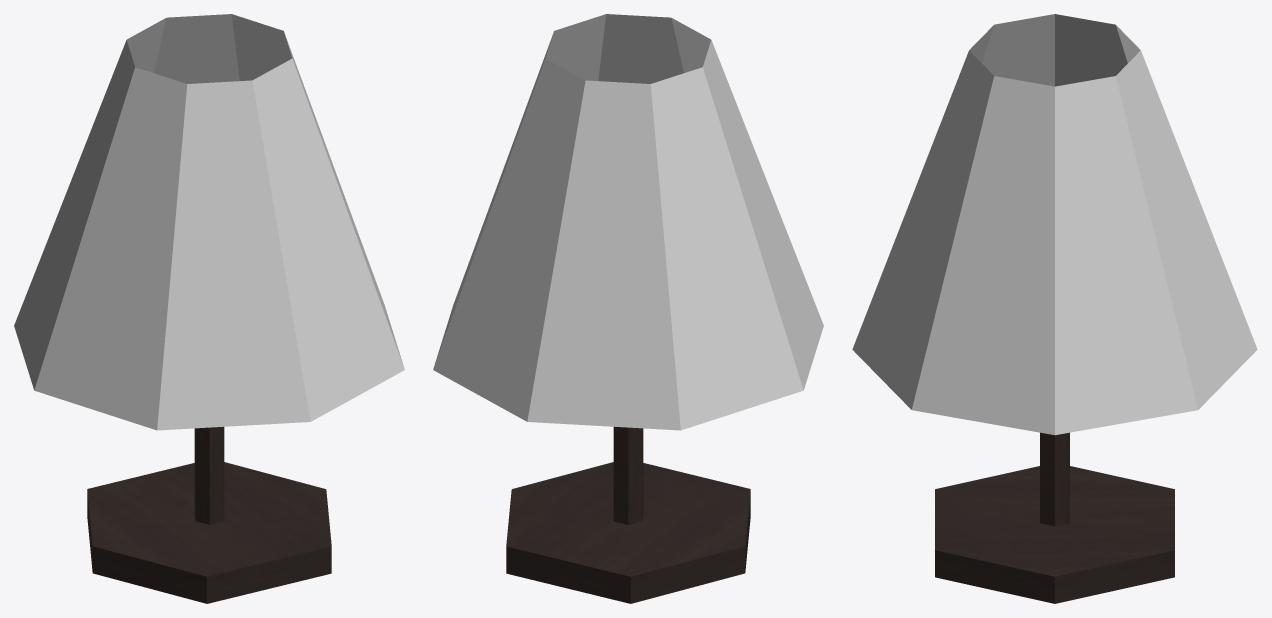
Rendered from Lamp.fbx.
The picture shows the model from 3 angles, left to right: view 1: azimuth 30°, elevation 25°; view 2: azimuth 150°, elevation 25°; view 3: azimuth 270°, elevation 25°; orthographic projection.
Parts seen in each view (by area): view 1: Lamp; view 2: Lamp; view 3: Lamp.
Part boxes in pixels (<box>): Lamp: <box>14,14,404,603</box>; Lamp: <box>433,14,823,603</box>; Lamp: <box>852,14,1257,603</box>.
Size of the model in its own units: 27 by 36.5 by 27.
